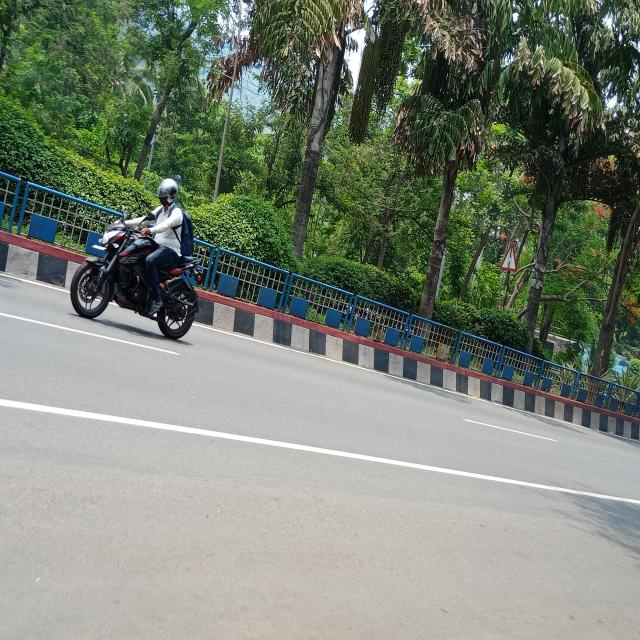bike: (75, 218, 201, 339)
